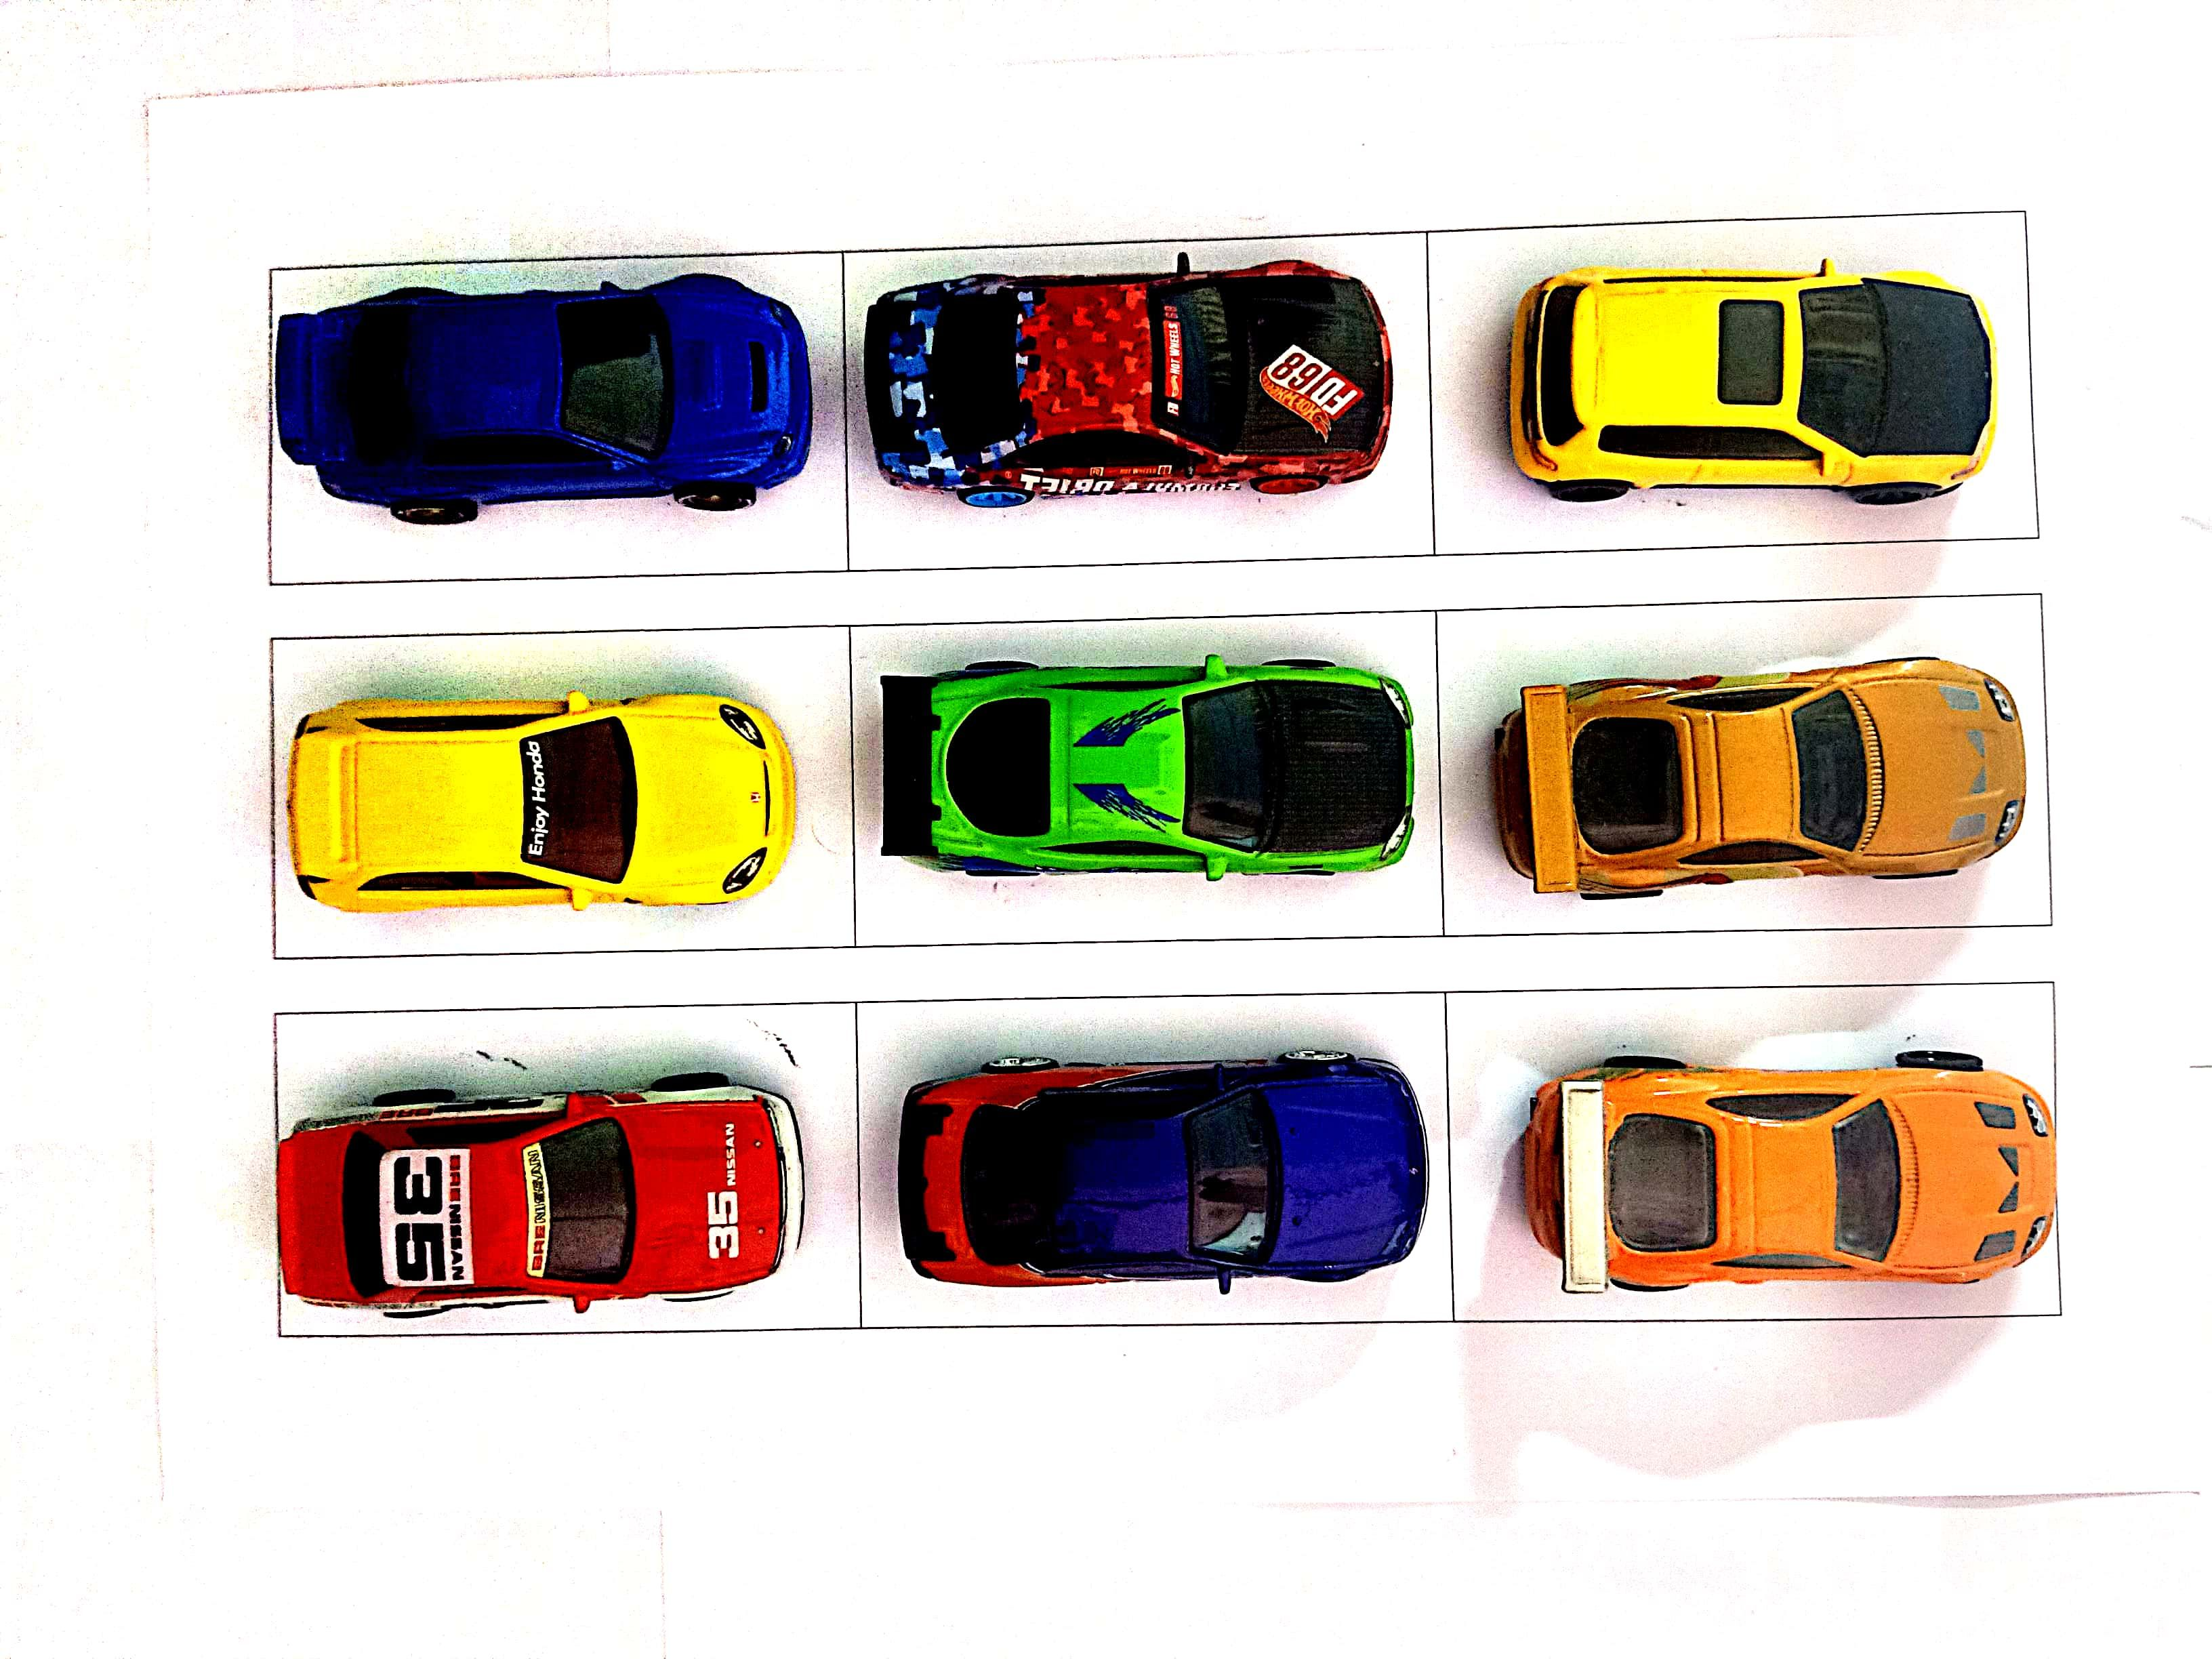Busy: (1446, 981, 2055, 1326), (1439, 220, 2033, 556), (1442, 599, 2041, 932), (266, 247, 846, 580), (862, 992, 1446, 1321), (857, 610, 1433, 943), (279, 1006, 853, 1333), (279, 629, 853, 951), (846, 240, 1426, 558)
